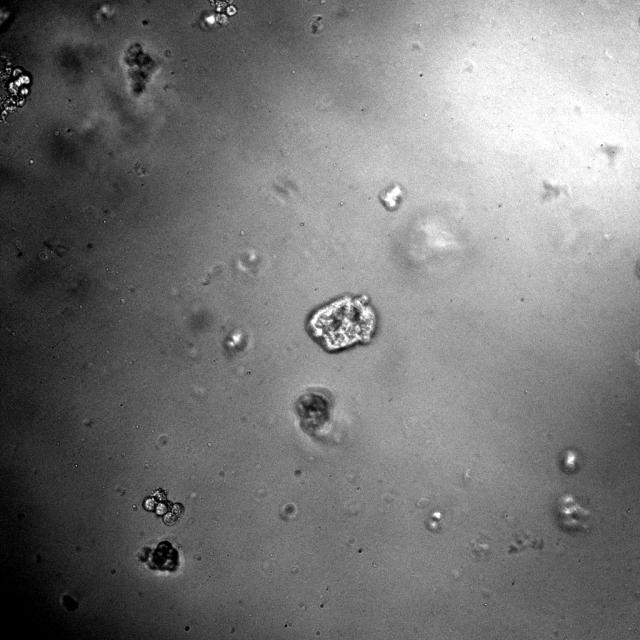organoid: (306, 294, 376, 352), (0, 58, 32, 121), (122, 43, 159, 95), (295, 390, 329, 435), (143, 488, 184, 525), (138, 540, 179, 572), (200, 0, 237, 29)
